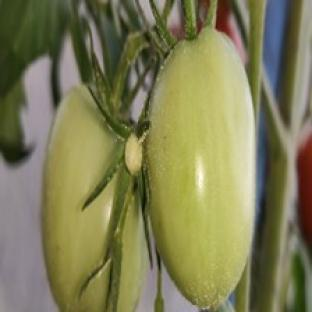Tomato: (147, 28, 254, 307), (42, 87, 116, 311), (297, 122, 311, 246)
